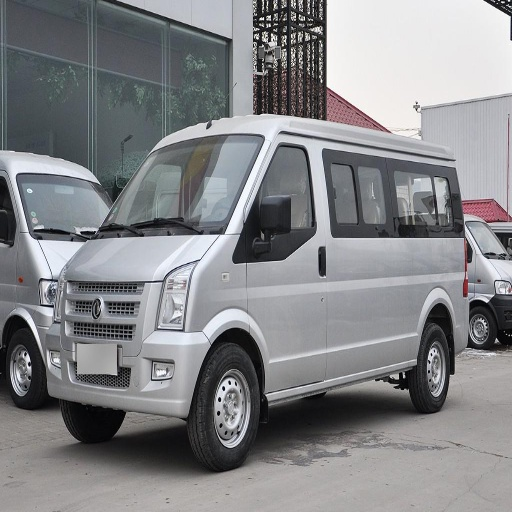front_bumper: (34, 280, 210, 415)
front_glass: (93, 136, 263, 238)
front_left_door: (246, 136, 344, 390)
front_left_light: (155, 266, 193, 329)
trunk: (361, 243, 492, 349)
